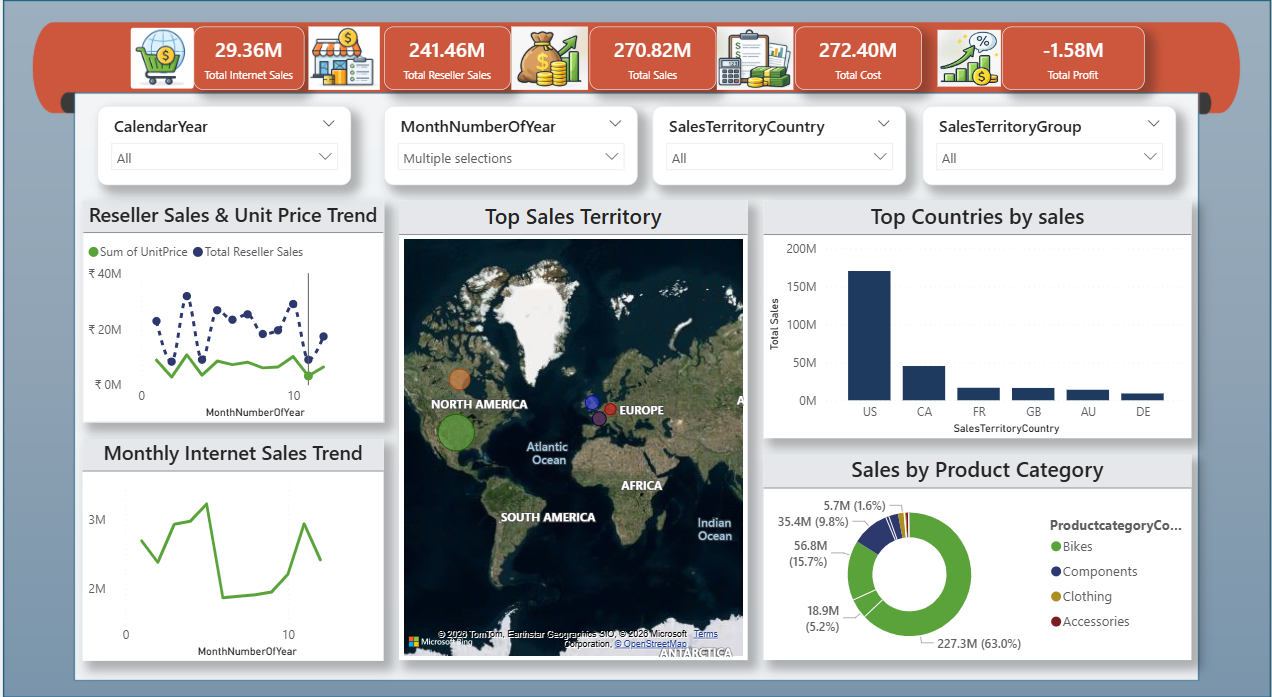

This screenshot's page, from the dashboard's own definition file:
{"tool":"powerbi","page":{"name":"Page 1","canvas":[1280,720],"ordinal":4},"visuals":[{"type":"card","fields":{"Values":["FactInternetSales.Total Internet Sales"]},"box":[192,32,112,64],"z":0},{"type":"card","fields":{"Values":["FactResellerSales.Total Reseller Sales"]},"box":[384,32,128,64],"z":1000},{"type":"card","fields":{"Values":["FactInternetSales.Total Sales"]},"box":[592,32,128,64],"z":2000},{"type":"card","fields":{"Values":["FactInternetSales.Total Cost"]},"box":[800,32,128,64],"z":3000},{"type":"card","fields":{"Values":["DimCurrency.Total Profit"]},"box":[1008,32,144,64],"z":4000},{"type":"lineChart","title":"Reseller Sales & Unit Price Trend","fields":{"Y":["Sum(FactResellerSales.UnitPrice)","FactResellerSales.Total Reseller Sales"],"Category":["DimDate.MonthNumberOfYear"]},"box":[80,208,304,224],"z":5000},{"type":"slicer","fields":{"Values":["DimDate.CalendarYear"]},"box":[96,112,256,80],"z":6000},{"type":"slicer","fields":{"Values":["DimDate.MonthNumberOfYear"]},"box":[384,112,256,80],"z":7000},{"type":"slicer","fields":{"Values":["DimSalesTerritory.SalesTerritoryCountry"]},"box":[656,112,256,80],"z":8000},{"type":"slicer","fields":{"Values":["DimSalesTerritory.SalesTerritoryGroup"]},"box":[928,112,256,80],"z":9000},{"type":"lineChart","title":"Monthly Internet Sales Trend","fields":{"Category":["DimDate.MonthNumberOfYear"],"Y":["FactInternetSales.Total Internet Sales"]},"box":[80,448,304,224],"z":10000},{"type":"map","title":"Top Sales Territory","fields":{"Category":["DimSalesTerritory.SalesTerritoryCountry"],"Size":["FactInternetSales.Total Sales"]},"box":[400,208,352,464],"z":11000},{"type":"clusteredColumnChart","title":"Top Countries by sales","fields":{"Category":["DimSalesTerritory.SalesTerritoryCountry"],"Y":["FactInternetSales.Total Sales"]},"box":[768,208,432,240],"z":12000},{"type":"donutChart","title":"Sales by Product Category","fields":{"Category":["DimProduct.ProductcategoryCode"],"Y":["FactInternetSales.Total Sales","FactResellerSales.Avg Monthly Sales","FactResellerSales.Avg Quarterly Sales"]},"box":[768,464,432,208],"z":13000},{"type":"image","box":[128,32,64,64],"z":14000},{"type":"image","box":[304,32,80,64],"z":15000},{"type":"image","box":[512,32,80,64],"z":16000},{"type":"image","box":[720,32,80,64],"z":17000},{"type":"image","box":[944,32,64,64],"z":18000}]}

Visuals, with their boxes in screenshot pixels (x1, y1, x2, y2), scaled from the page's 1280x720 canvas onto the 1272x697 screenshot:
card - FactInternetSales.Total Internet Sales: <bbox>191, 31, 302, 93</bbox>
card - FactResellerSales.Total Reseller Sales: <bbox>382, 31, 509, 93</bbox>
card - FactInternetSales.Total Sales: <bbox>588, 31, 716, 93</bbox>
card - FactInternetSales.Total Cost: <bbox>795, 31, 922, 93</bbox>
card - DimCurrency.Total Profit: <bbox>1002, 31, 1145, 93</bbox>
"Reseller Sales & Unit Price Trend" lineChart: <bbox>80, 201, 382, 418</bbox>
slicer - DimDate.CalendarYear: <bbox>95, 108, 350, 186</bbox>
slicer - DimDate.MonthNumberOfYear: <bbox>382, 108, 636, 186</bbox>
slicer - DimSalesTerritory.SalesTerritoryCountry: <bbox>652, 108, 906, 186</bbox>
slicer - DimSalesTerritory.SalesTerritoryGroup: <bbox>922, 108, 1177, 186</bbox>
"Monthly Internet Sales Trend" lineChart: <bbox>80, 434, 382, 651</bbox>
"Top Sales Territory" map: <bbox>398, 201, 747, 651</bbox>
"Top Countries by sales" clusteredColumnChart: <bbox>763, 201, 1192, 434</bbox>
"Sales by Product Category" donutChart: <bbox>763, 449, 1192, 651</bbox>
image: <bbox>127, 31, 191, 93</bbox>
image: <bbox>302, 31, 382, 93</bbox>
image: <bbox>509, 31, 588, 93</bbox>
image: <bbox>716, 31, 795, 93</bbox>
image: <bbox>938, 31, 1002, 93</bbox>
